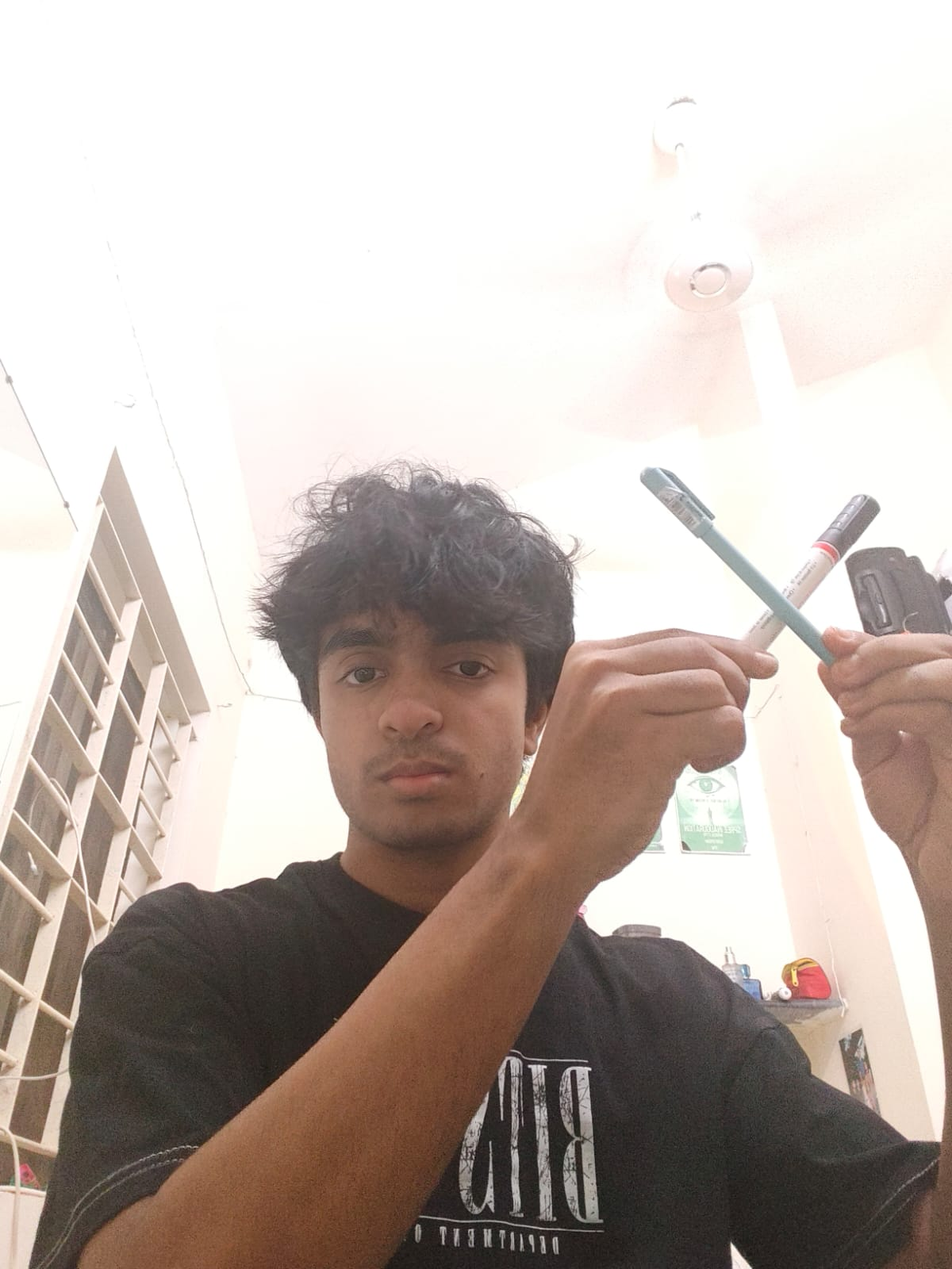case: (749, 482, 907, 653)
pen: (641, 462, 868, 665)
